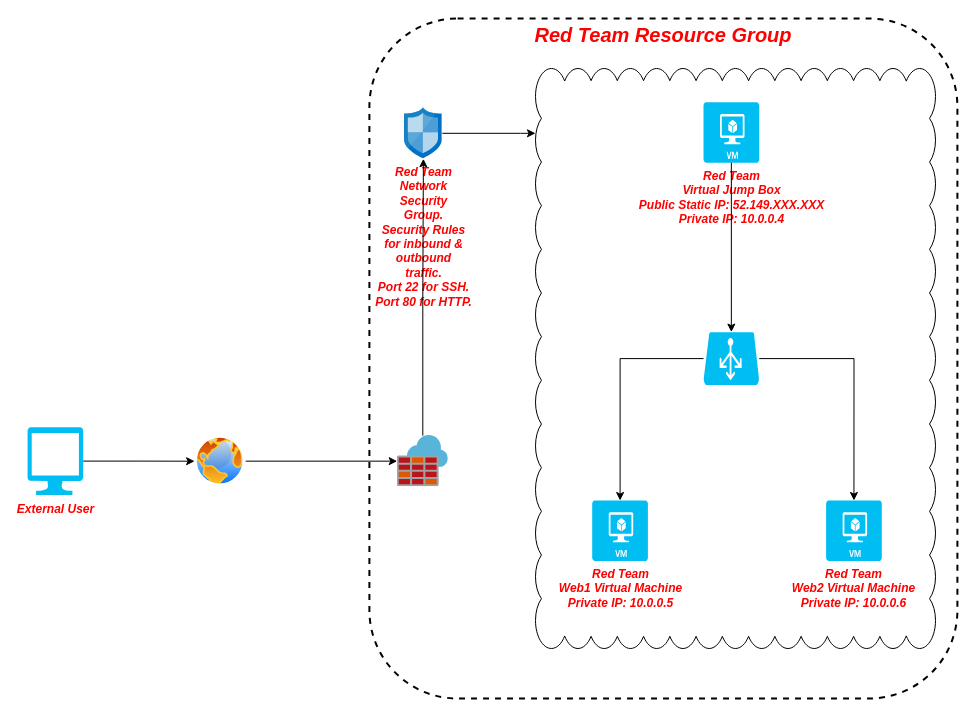
The diagram is 976 pixels wide and 716 high, and some of its shapes have lost their labels. The centre of each missing label's shape, as x and y in pixels:
"Azure Firewall" belongs at point (422, 460).
"Internet" belongs at point (219, 460).
"Red Team Load Balancer Front End Static IP: 20.253.XX.XXX" belongs at point (731, 358).
